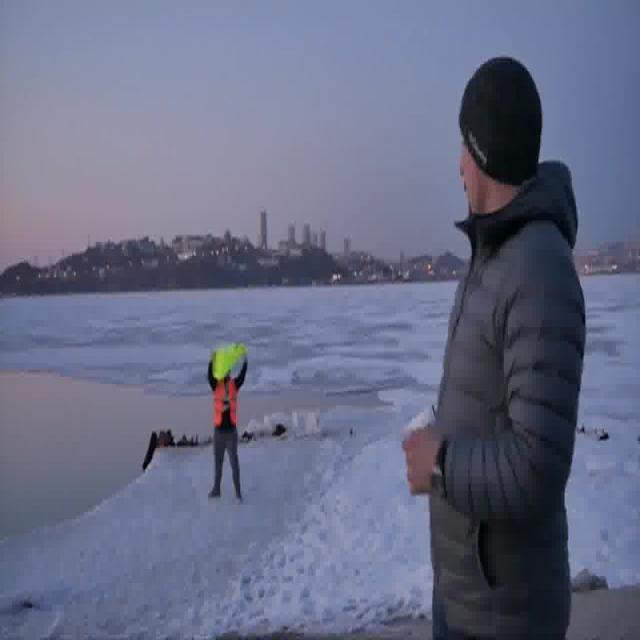class18: (441, 42, 546, 220)
class19: (393, 258, 579, 629)
glove: (211, 343, 249, 380), (213, 376, 239, 426)
